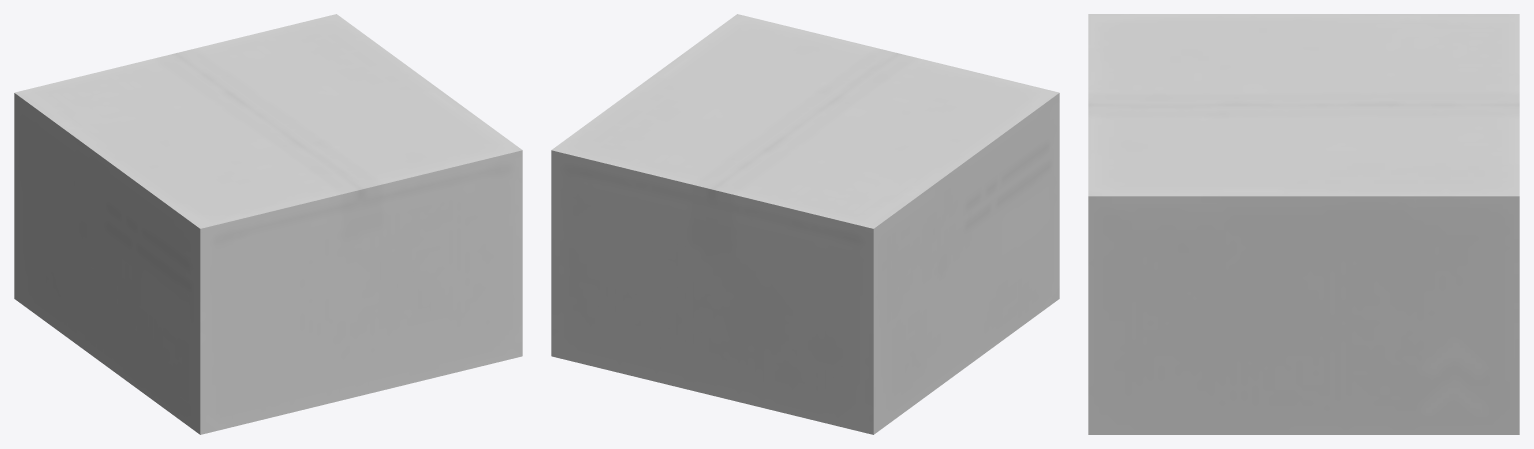
File: Pfb_PaperBox__24.fbx
3 renders of one model, left to right at view 1: azimuth 30°, elevation 25°; view 2: azimuth 150°, elevation 25°; view 3: azimuth 270°, elevation 25°, orthographic. The views are drawn at different scales.
Parts seen in each view (by area): view 1: Mat_PaperBox_01_02 2; view 2: Mat_PaperBox_01_02 2; view 3: Mat_PaperBox_01_02 2.
Part boxes in pixels (x1,y1,x2,y2): Mat_PaperBox_01_02 2: (14, 14, 522, 434); Mat_PaperBox_01_02 2: (551, 14, 1059, 434); Mat_PaperBox_01_02 2: (1088, 14, 1519, 434).
Size of the model in its own units: 0.9908 by 0.6051 by 0.9908.
1 material, 1 textured.
